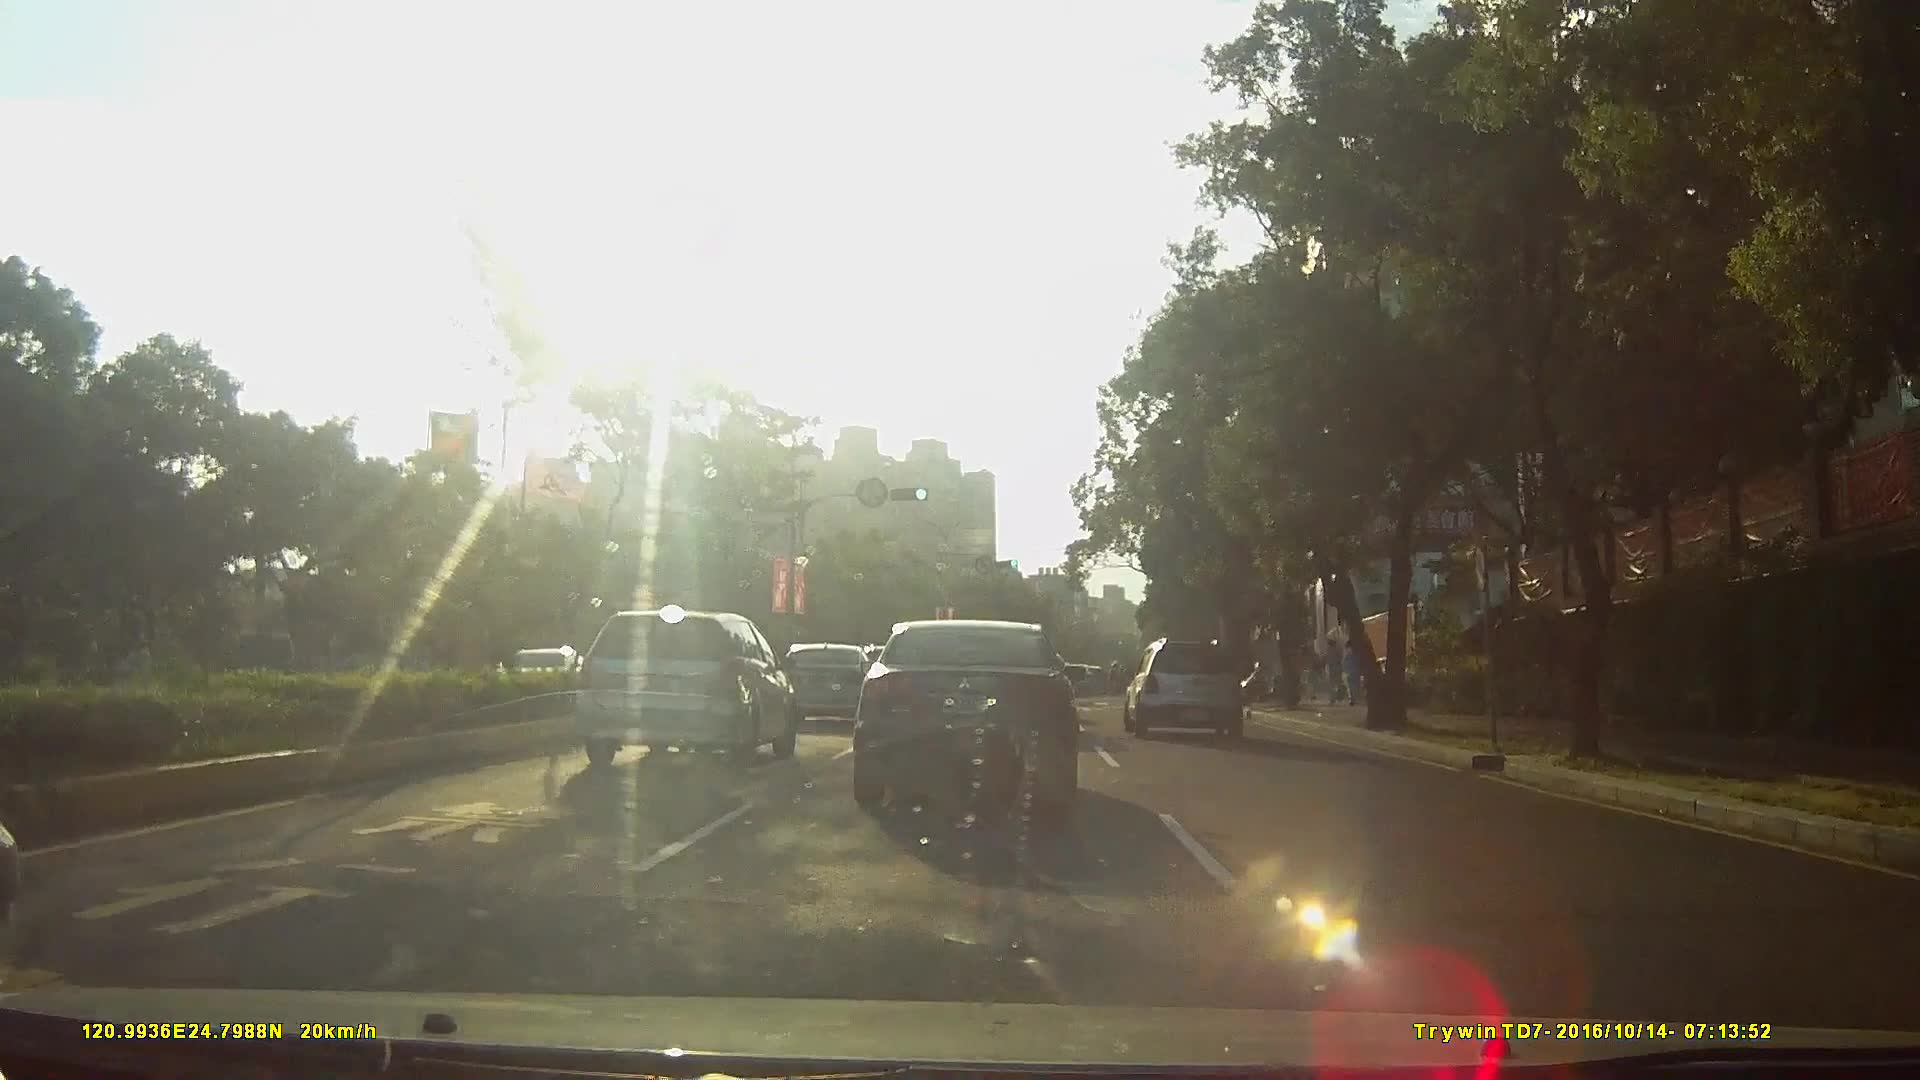pedestrian: (1320, 638, 1344, 713)
vehicle: (851, 612, 1081, 819), (570, 605, 795, 769), (1120, 638, 1255, 740), (770, 643, 883, 728)
